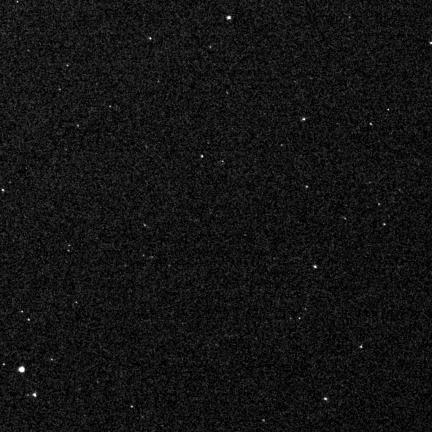blob: (19, 367, 25, 373), (227, 16, 231, 20), (314, 265, 318, 269), (33, 393, 36, 397), (302, 118, 305, 121)
